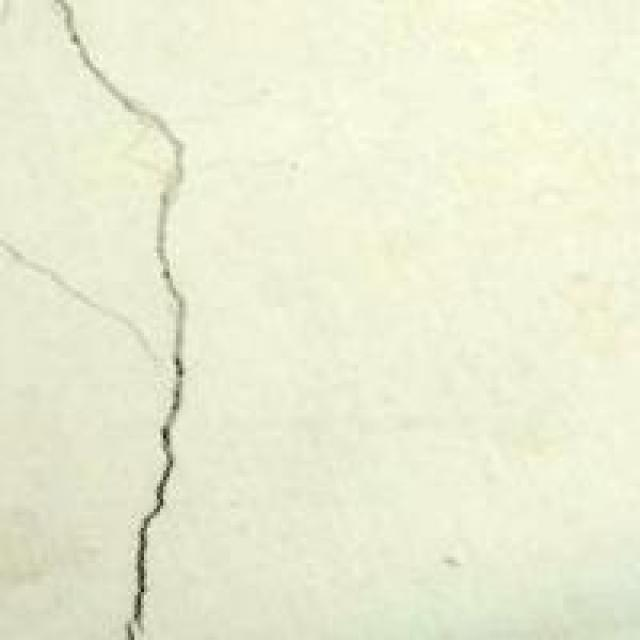crack: (32, 0, 224, 637)
